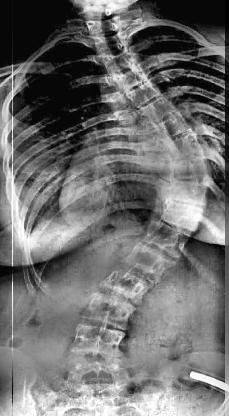Vertebrae: (78, 288, 138, 334), (97, 262, 154, 308), (121, 240, 177, 286), (66, 322, 128, 360), (140, 218, 192, 260), (161, 200, 205, 235), (155, 108, 197, 144), (164, 179, 208, 211), (110, 61, 150, 96), (168, 154, 210, 186), (92, 30, 134, 60), (139, 96, 180, 126), (126, 78, 164, 110), (166, 130, 204, 160), (103, 50, 143, 78)
